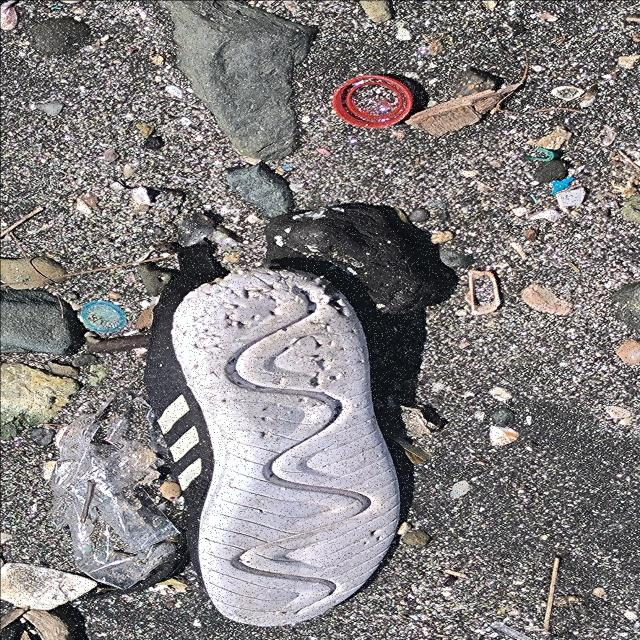plastic_waste: (332, 74, 416, 130)
rubber_waste: (141, 267, 405, 629)
